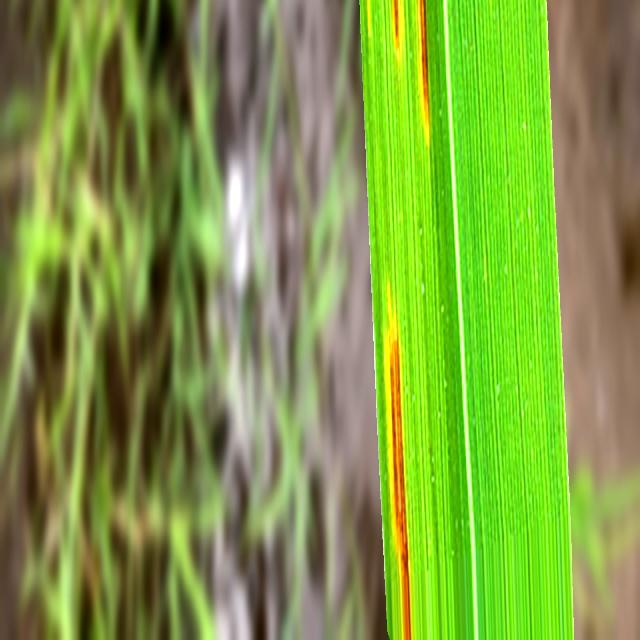NBS: (387, 302, 411, 638), (418, 0, 430, 142), (391, 0, 401, 53)
